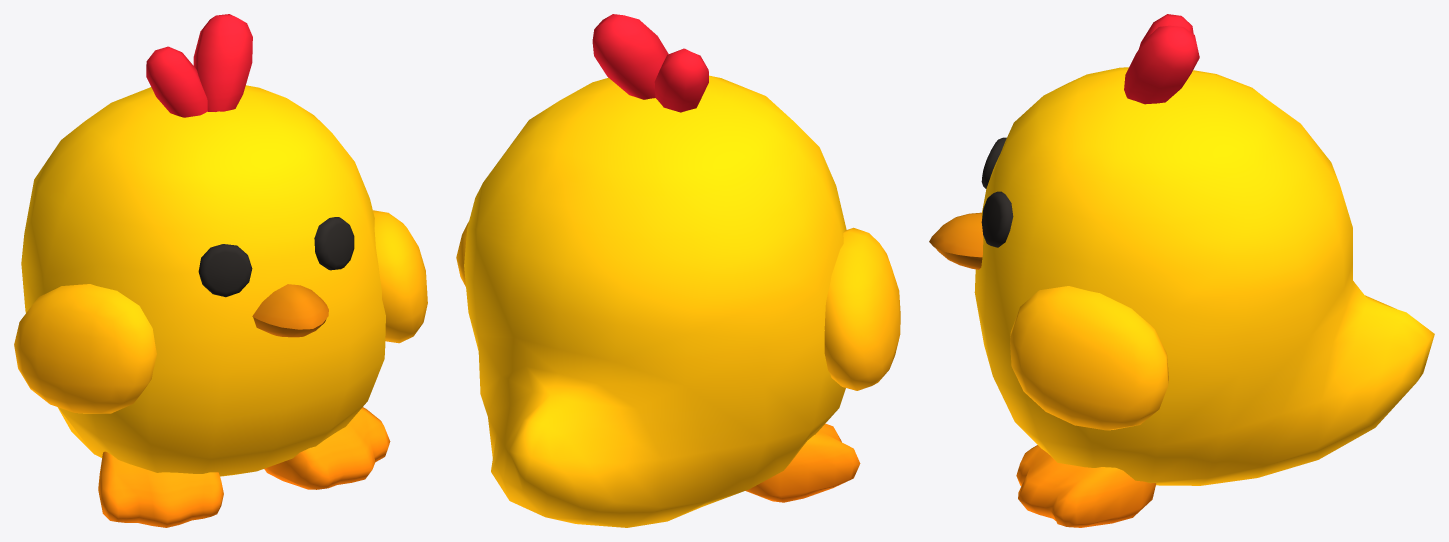
The model's file is chick.glb.
3 renders of one model, left to right at view 1: azimuth 30°, elevation 25°; view 2: azimuth 150°, elevation 25°; view 3: azimuth 270°, elevation 25°, orthographic. The views are drawn at different scales.
Parts seen in each view (by area): view 1: Chick_01; view 2: Chick_01; view 3: Chick_01.
Boxes of the visible parts, box(x1,y1,x2,y2) form: Chick_01: box(14, 14, 427, 527); Chick_01: box(456, 14, 900, 527); Chick_01: box(929, 14, 1434, 527).
Size of the model in its own units: 0.4035 by 0.433 by 0.4358.
Materials: 2 (2 with a texture image).
